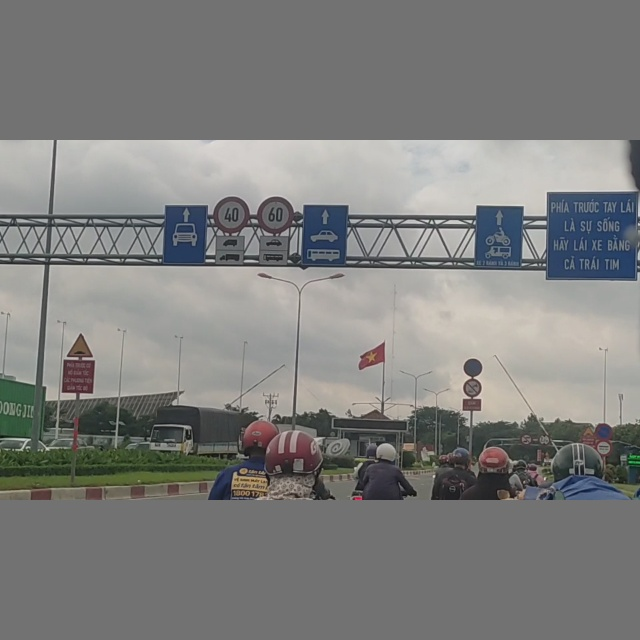P.107: (539, 434, 551, 445), (521, 433, 532, 444)
P.111: (463, 379, 482, 397)
P.127*40: (213, 196, 249, 233)
P.127*60: (257, 197, 294, 233)
P.129: (596, 441, 612, 456)
P.130: (464, 358, 483, 376)
P.131a: (596, 423, 613, 439)
W.221b: (67, 331, 93, 357), (582, 426, 595, 437)
